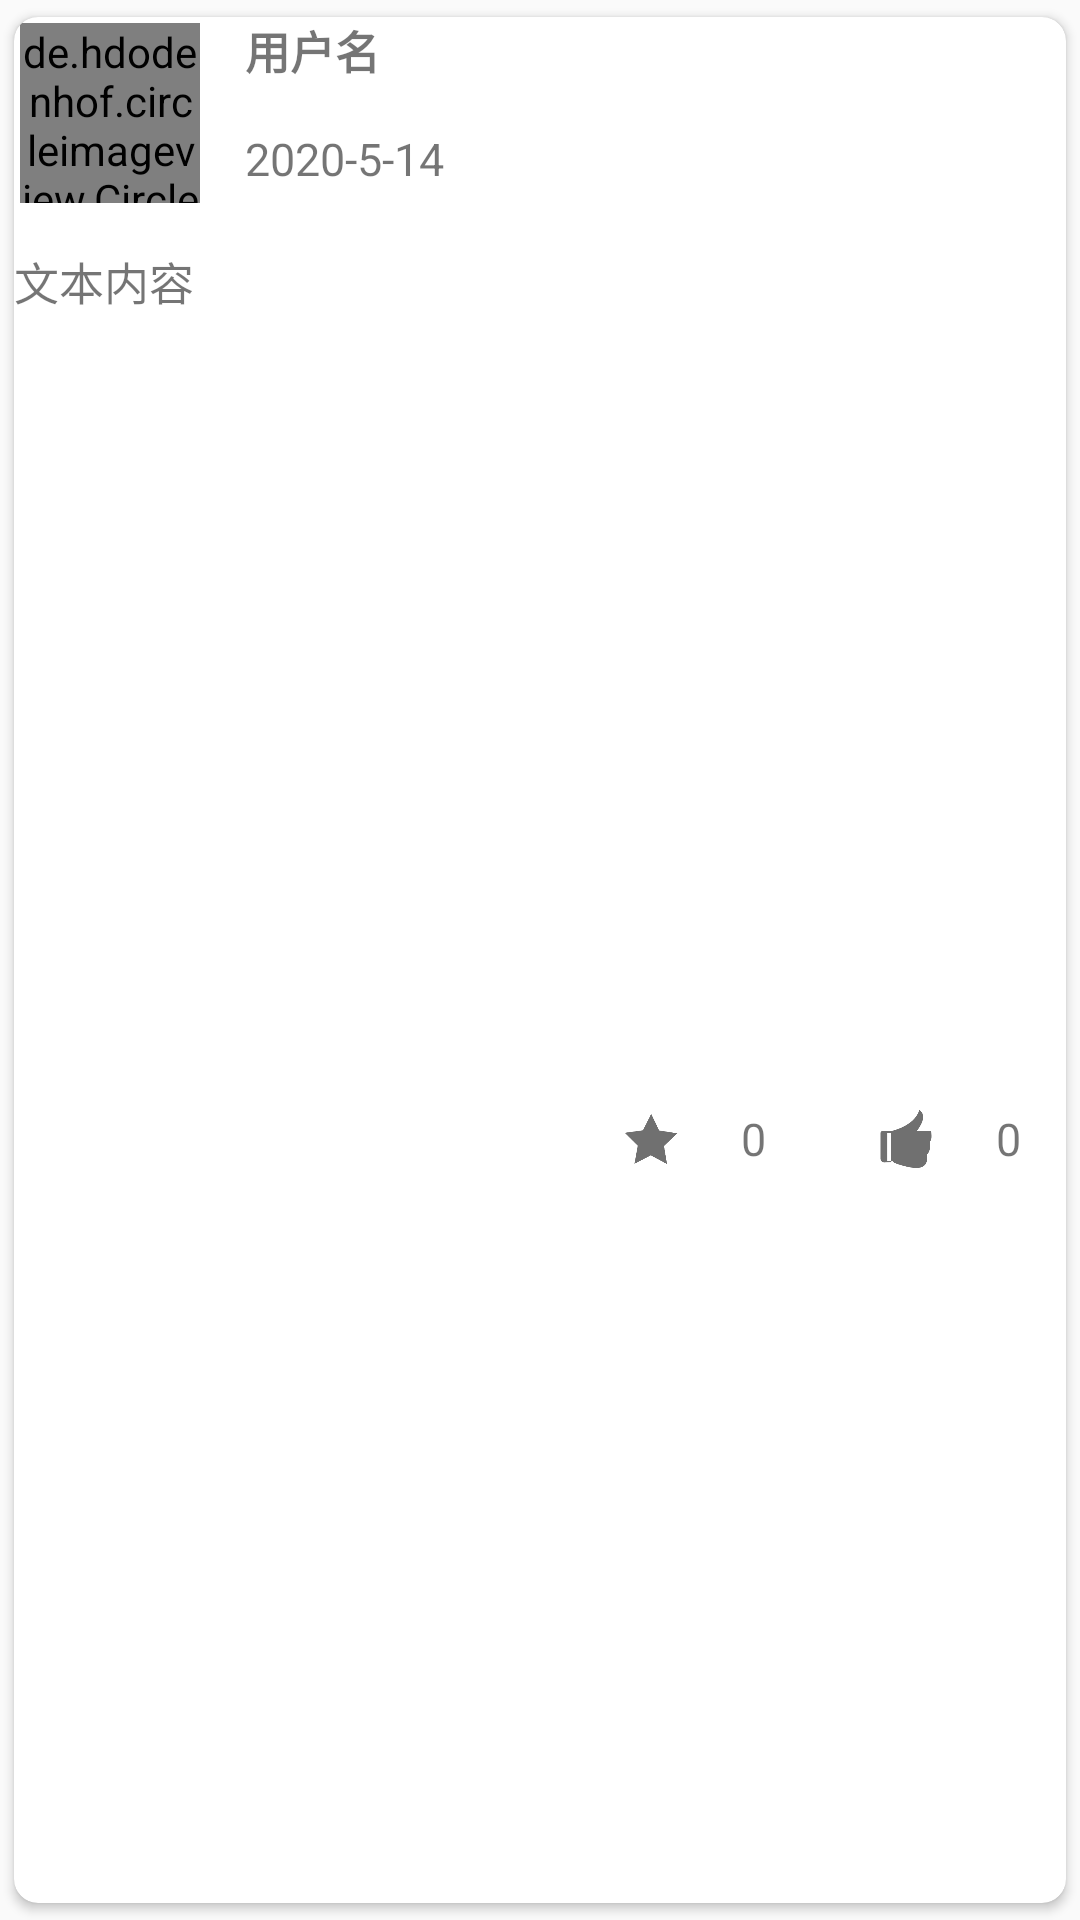

Icons on this 1080w x 1920h Android screen, each with the point to tap as point (x, y):
collection: point (651, 1139)
like: point (906, 1139)
